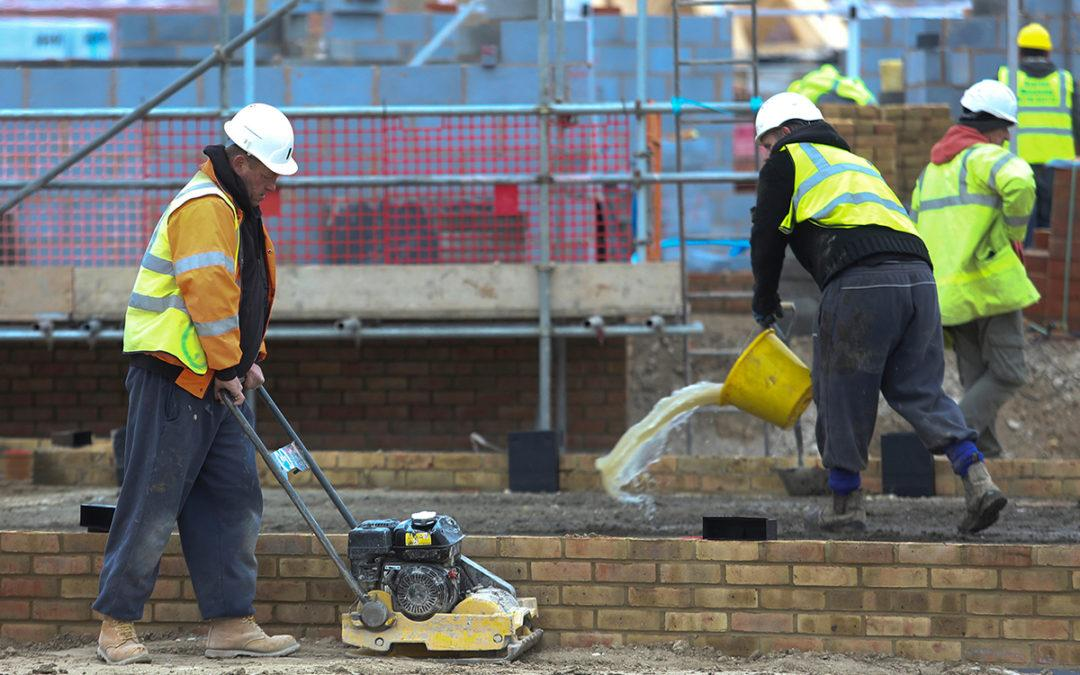helmet: (223, 101, 301, 180), (753, 91, 825, 147), (963, 81, 1020, 130), (1018, 23, 1054, 52)
